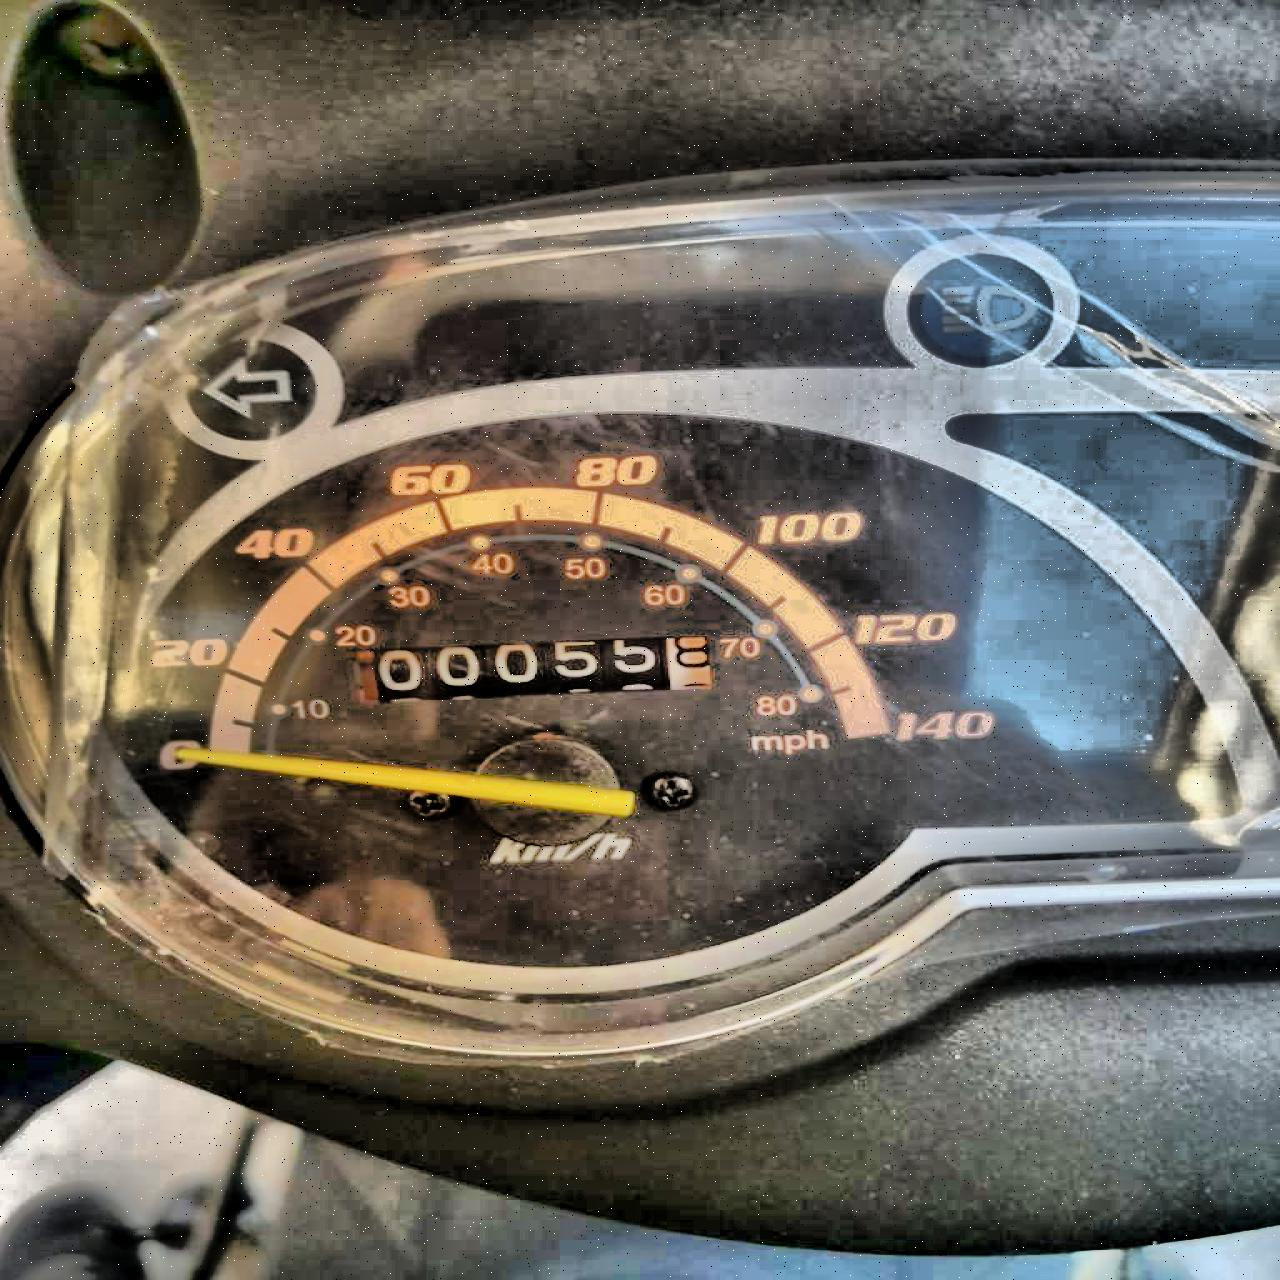0: (376, 648, 421, 690), (434, 644, 478, 686), (492, 641, 538, 682)
5: (610, 633, 653, 673), (553, 638, 594, 678)
8: (672, 632, 710, 667)
odometer: (342, 633, 715, 706)
